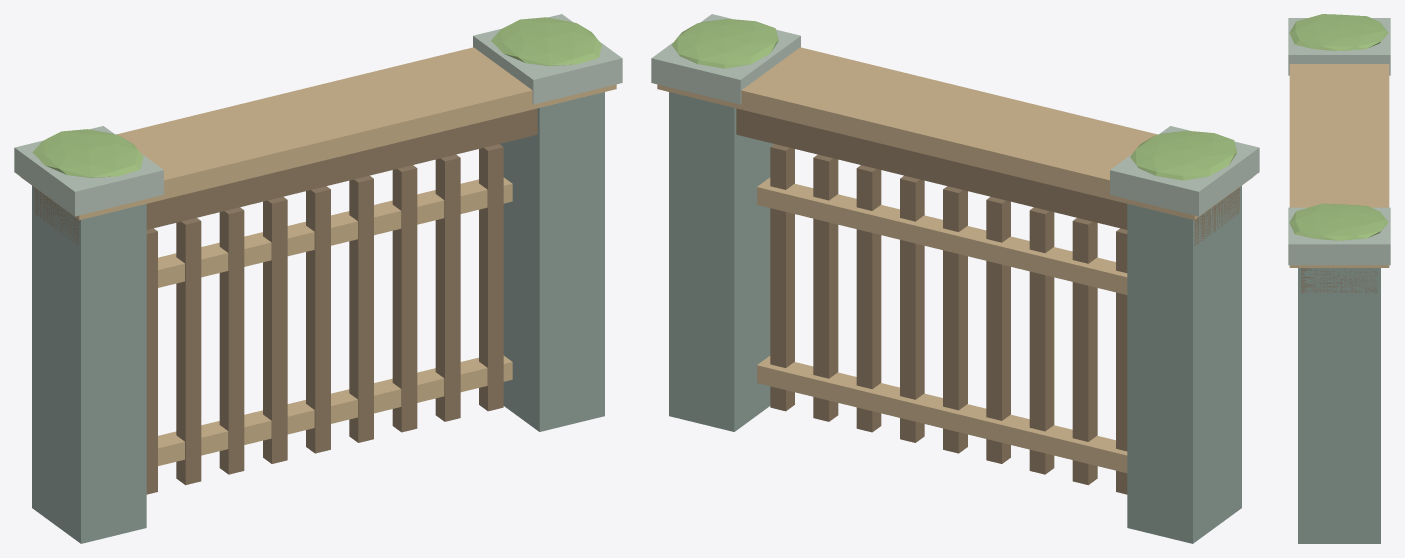
File: wall-gate-mossy.glb
3 views of the same model, side by side, from view 1: azimuth 30°, elevation 25°; view 2: azimuth 150°, elevation 25°; view 3: azimuth 270°, elevation 25° (orthographic). The views are drawn at different scales.
Visible parts, largest first — view 1: wall-gate-kit-mossy-stone, wall-gate-kit-mossy-wood, wall-gate-kit-mossy-end, wall-gate-kit-mossy-light, wall-gate-kit-mossy-top; view 2: wall-gate-kit-mossy-stone, wall-gate-kit-mossy-wood, wall-gate-kit-mossy-end, wall-gate-kit-mossy-light, wall-gate-kit-mossy-top; view 3: wall-gate-kit-mossy-stone, wall-gate-kit-mossy-end, wall-gate-kit-mossy-top, wall-gate-kit-mossy-light, wall-gate-kit-mossy-wood.
Boxes of the visible parts, x1=… form: wall-gate-kit-mossy-stone: x1=32, y1=92, x2=604, y2=543; wall-gate-kit-mossy-wood: x1=34, y1=108, x2=537, y2=494; wall-gate-kit-mossy-end: x1=21, y1=47, x2=616, y2=465; wall-gate-kit-mossy-light: x1=14, y1=14, x2=622, y2=216; wall-gate-kit-mossy-top: x1=32, y1=17, x2=601, y2=177; wall-gate-kit-mossy-stone: x1=669, y1=92, x2=1241, y2=543; wall-gate-kit-mossy-wood: x1=736, y1=108, x2=1239, y2=494; wall-gate-kit-mossy-end: x1=657, y1=47, x2=1252, y2=473; wall-gate-kit-mossy-light: x1=651, y1=14, x2=1259, y2=216; wall-gate-kit-mossy-top: x1=672, y1=18, x2=1237, y2=180; wall-gate-kit-mossy-stone: x1=1298, y1=268, x2=1380, y2=543; wall-gate-kit-mossy-end: x1=1289, y1=64, x2=1389, y2=267; wall-gate-kit-mossy-top: x1=1289, y1=14, x2=1388, y2=240; wall-gate-kit-mossy-light: x1=1288, y1=18, x2=1390, y2=265; wall-gate-kit-mossy-wood: x1=1301, y1=268, x2=1377, y2=292.
Bounding box in the file's own units: 4.18 × 2.69 × 0.8.
